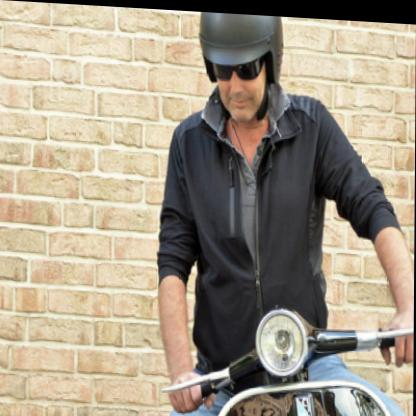With Helmet: (197, 10, 291, 124)
